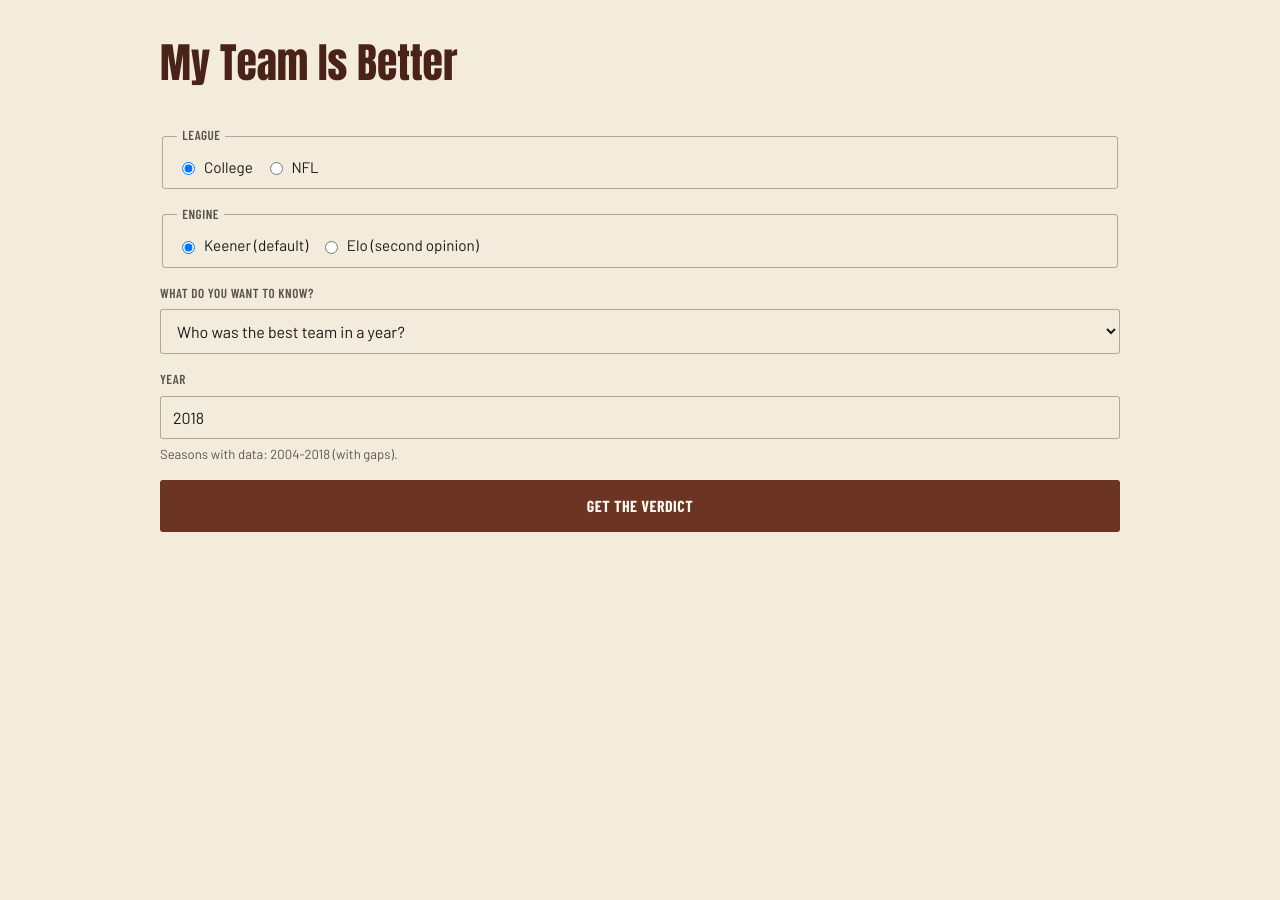
it: HomePage › share links (issue #184) › offers to share a verdict asked through the form, as a link to that exact question
Select "How good was a team in a year?" in the dropdown labelled "What do you want to know?" at (640,332), box x1=160 y1=309 x2=1120 y2=354
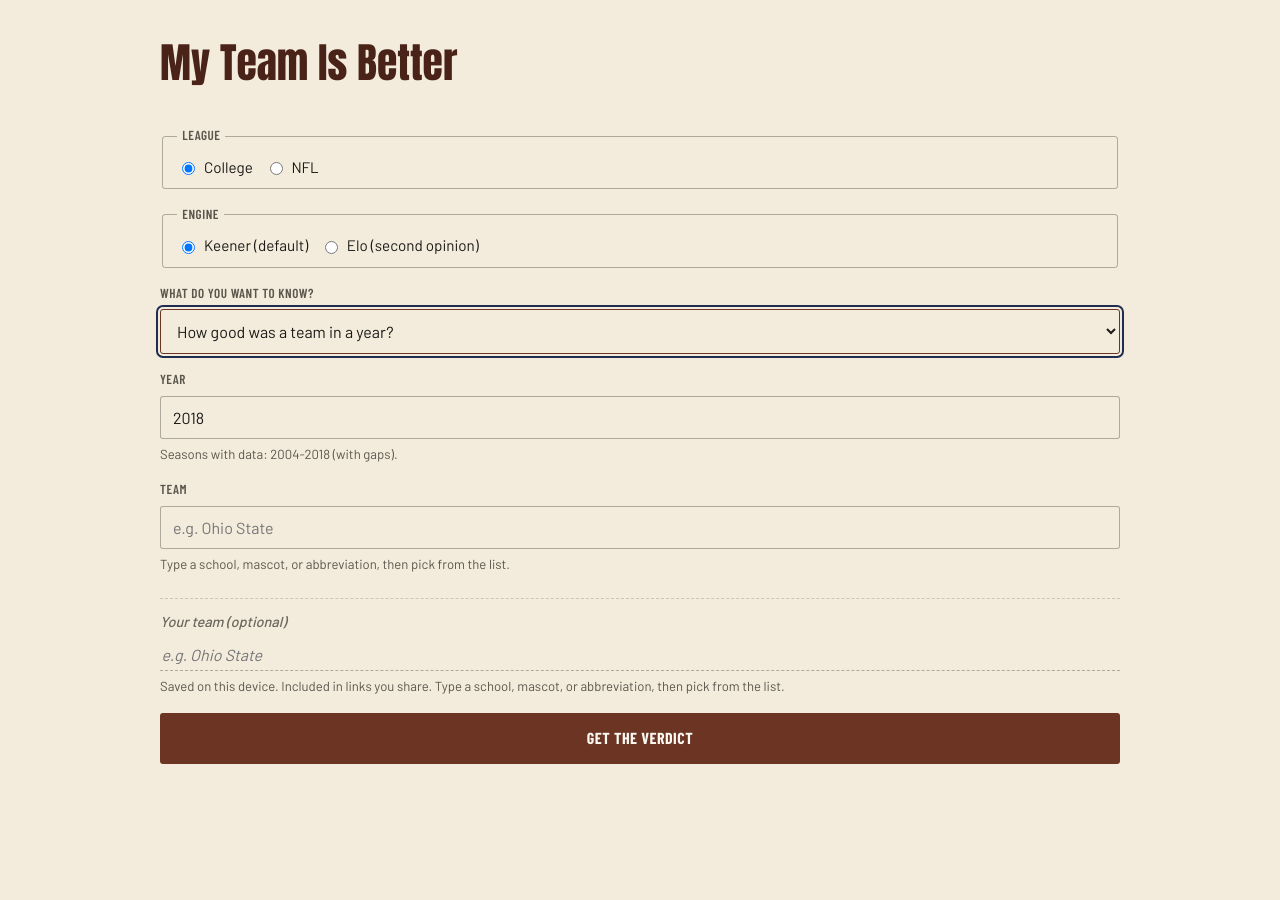
Type "2005" into the number field labelled "Year".
click(640, 417); type("2005")  # box x1=160 y1=396 x2=1120 y2=439
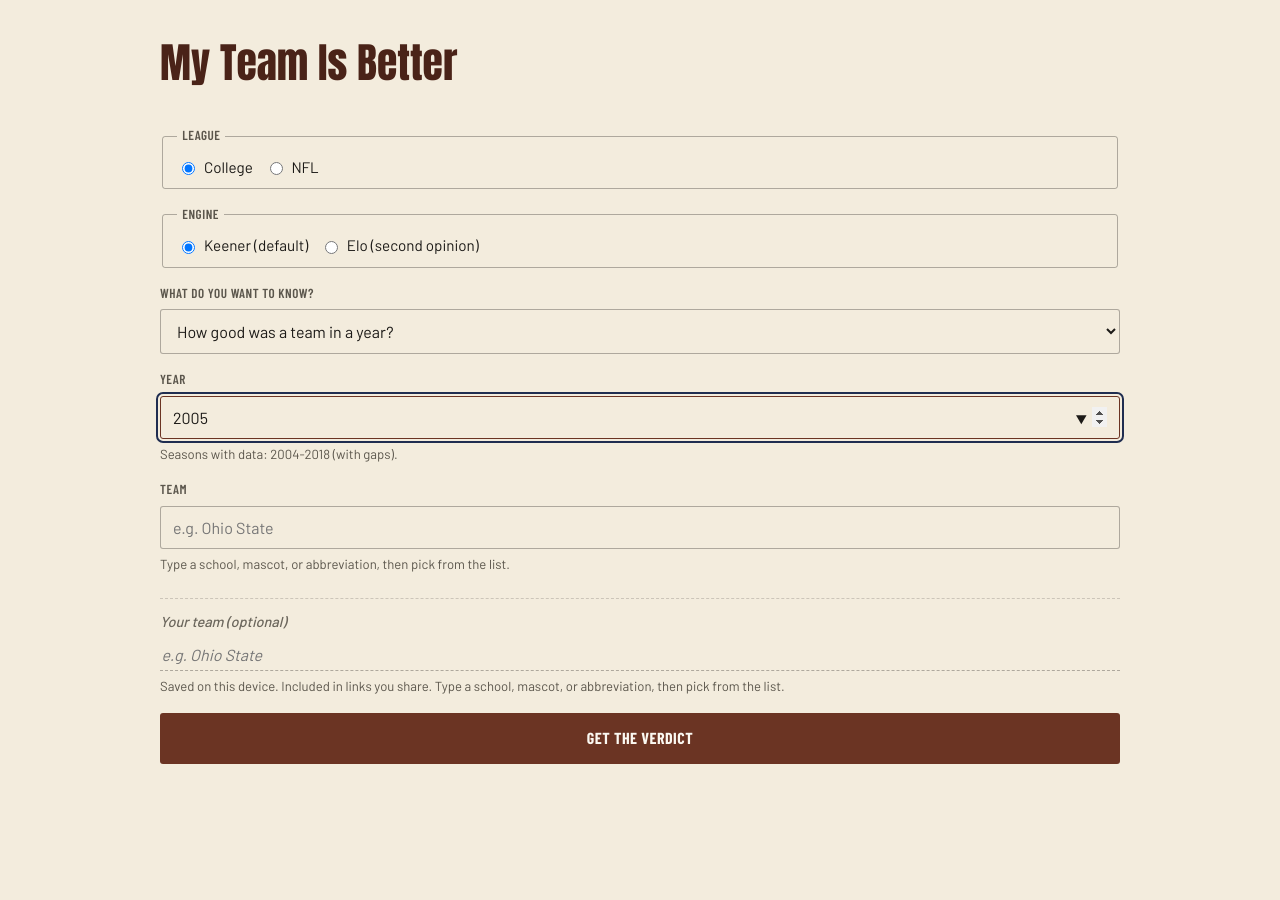
Type "Texas" into the dropdown labelled "Team".
click(640, 527); type("Texas")  # box x1=160 y1=506 x2=1120 y2=549
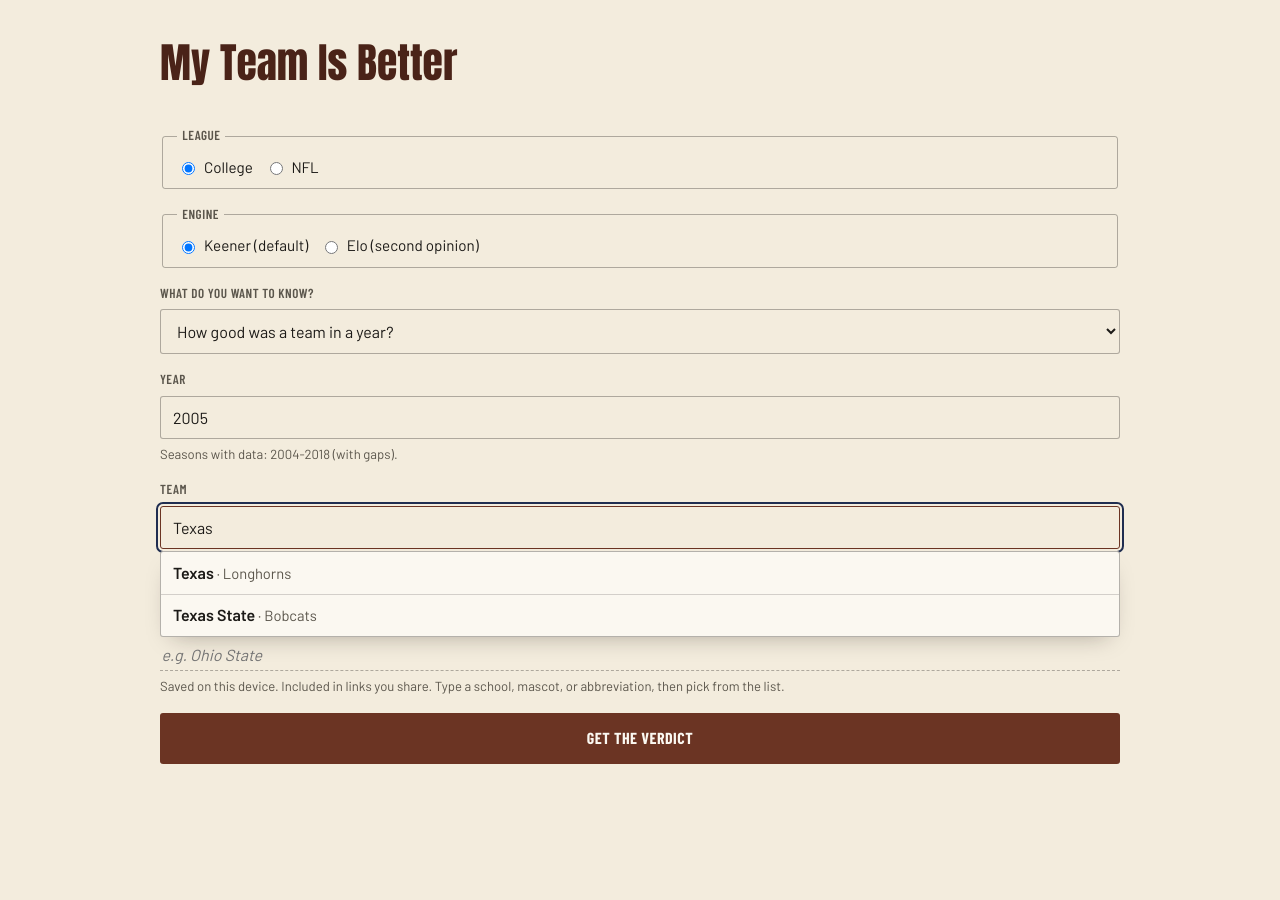
Type "Texas A&M" into the dropdown labelled "Your team (optional)".
click(640, 655); type("Texas A&M")  # box x1=160 y1=638 x2=1120 y2=671
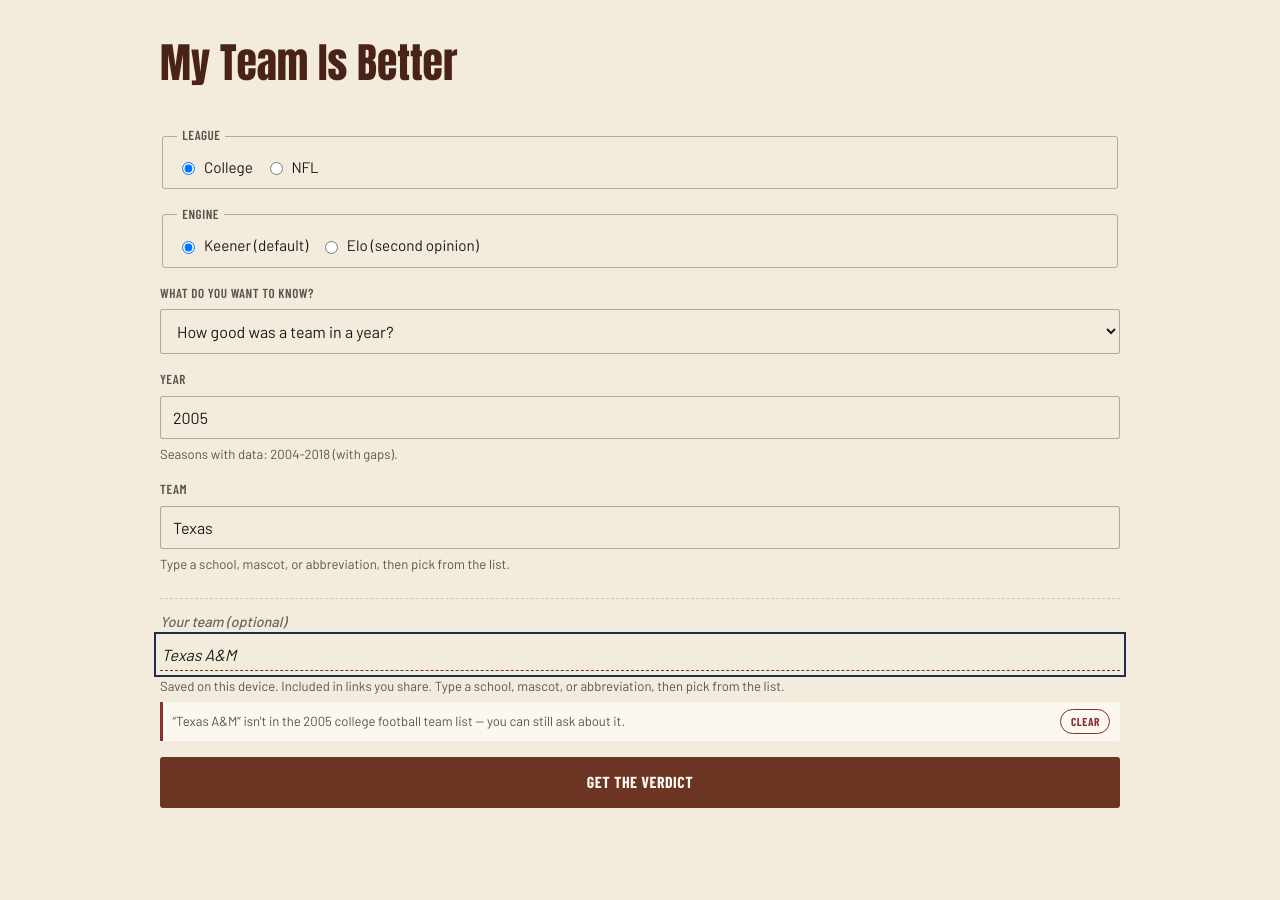
Click the button "Get the verdict".
click(640, 782)  # box x1=160 y1=756 x2=1120 y2=808
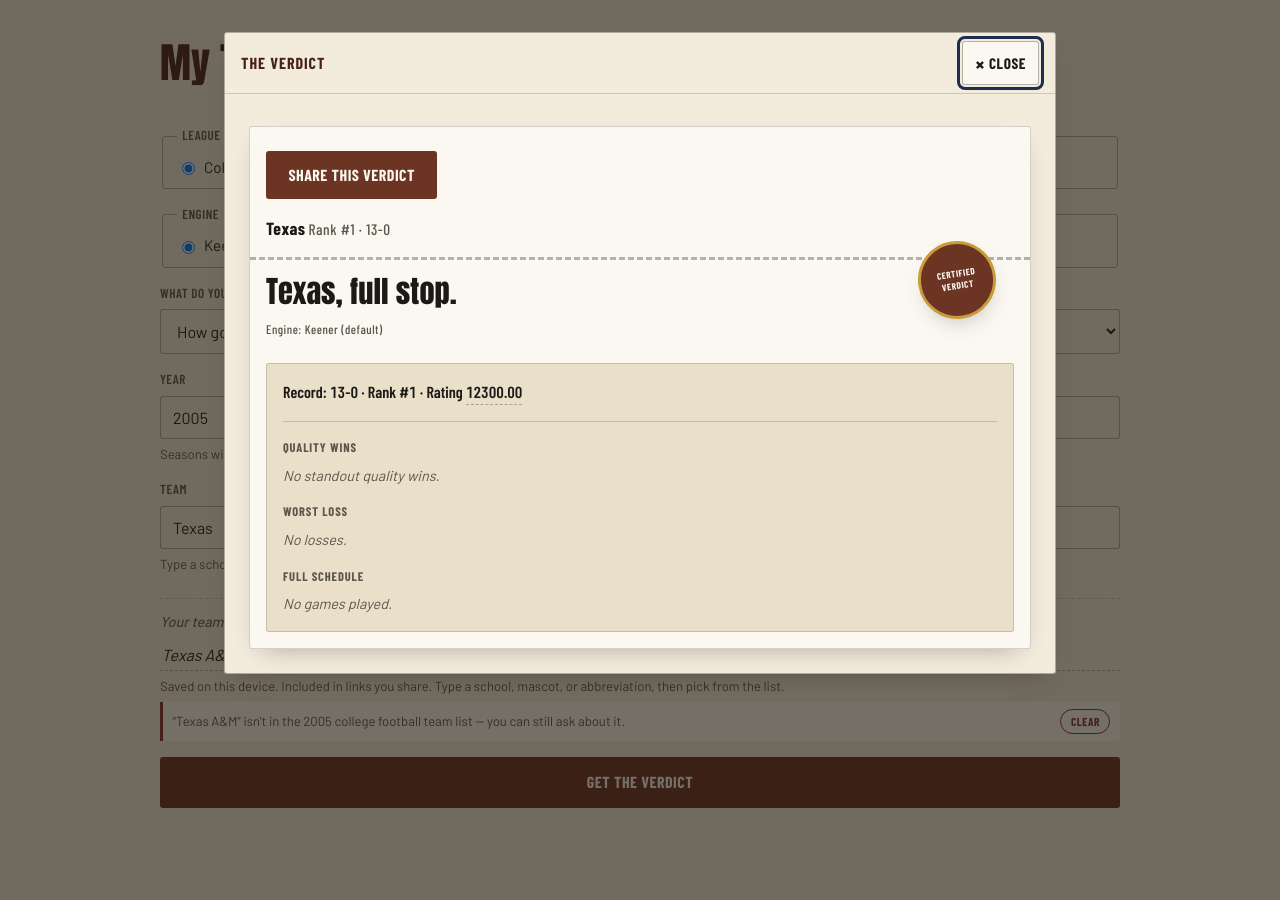
Now the text "Texas, full stop." is shown, box x1=266 y1=268 x2=457 y2=314
Click the button "Share this verdict".
click(352, 175)  # box x1=266 y1=151 x2=437 y2=199
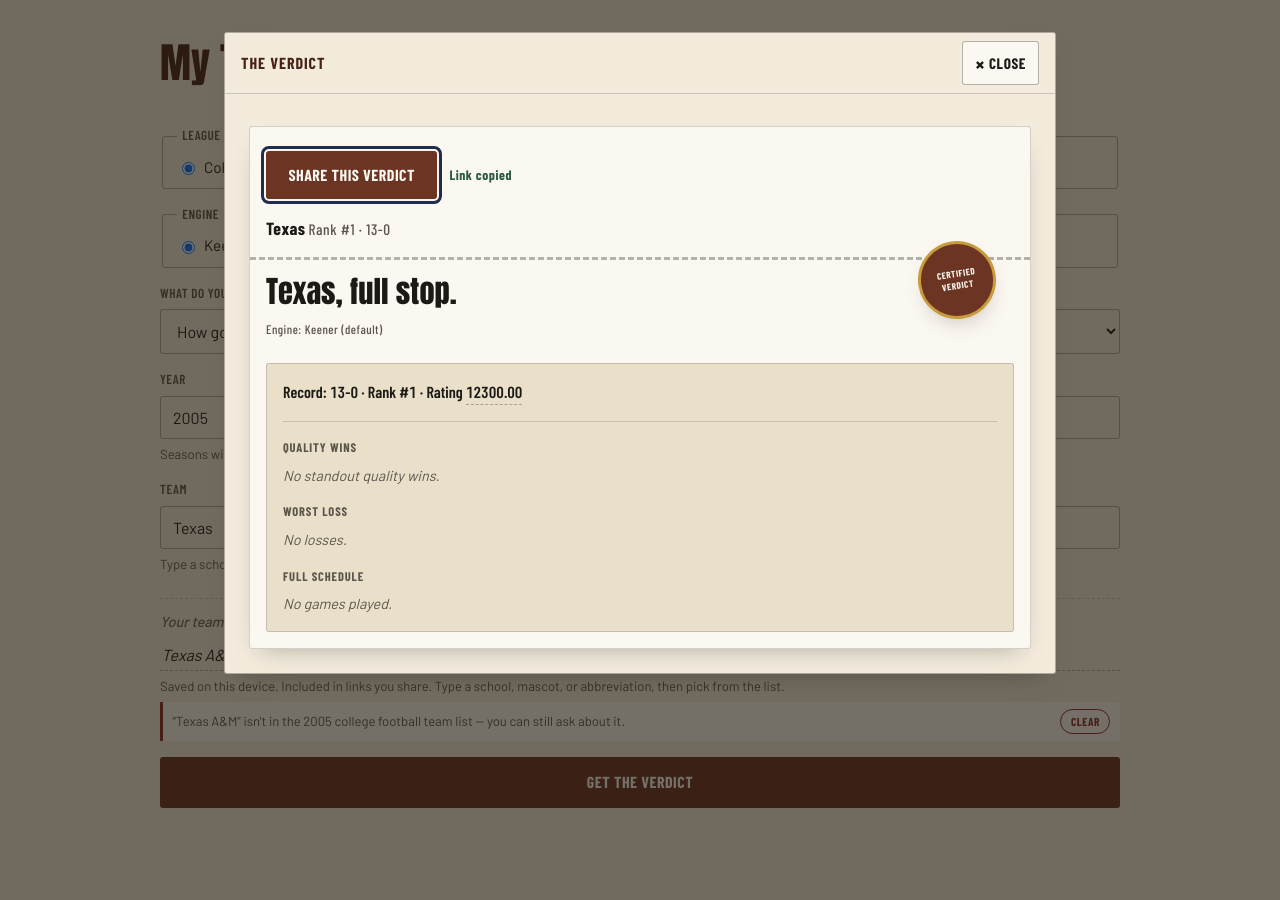
Now the text "Link copied" is shown, box x1=449 y1=165 x2=512 y2=185
